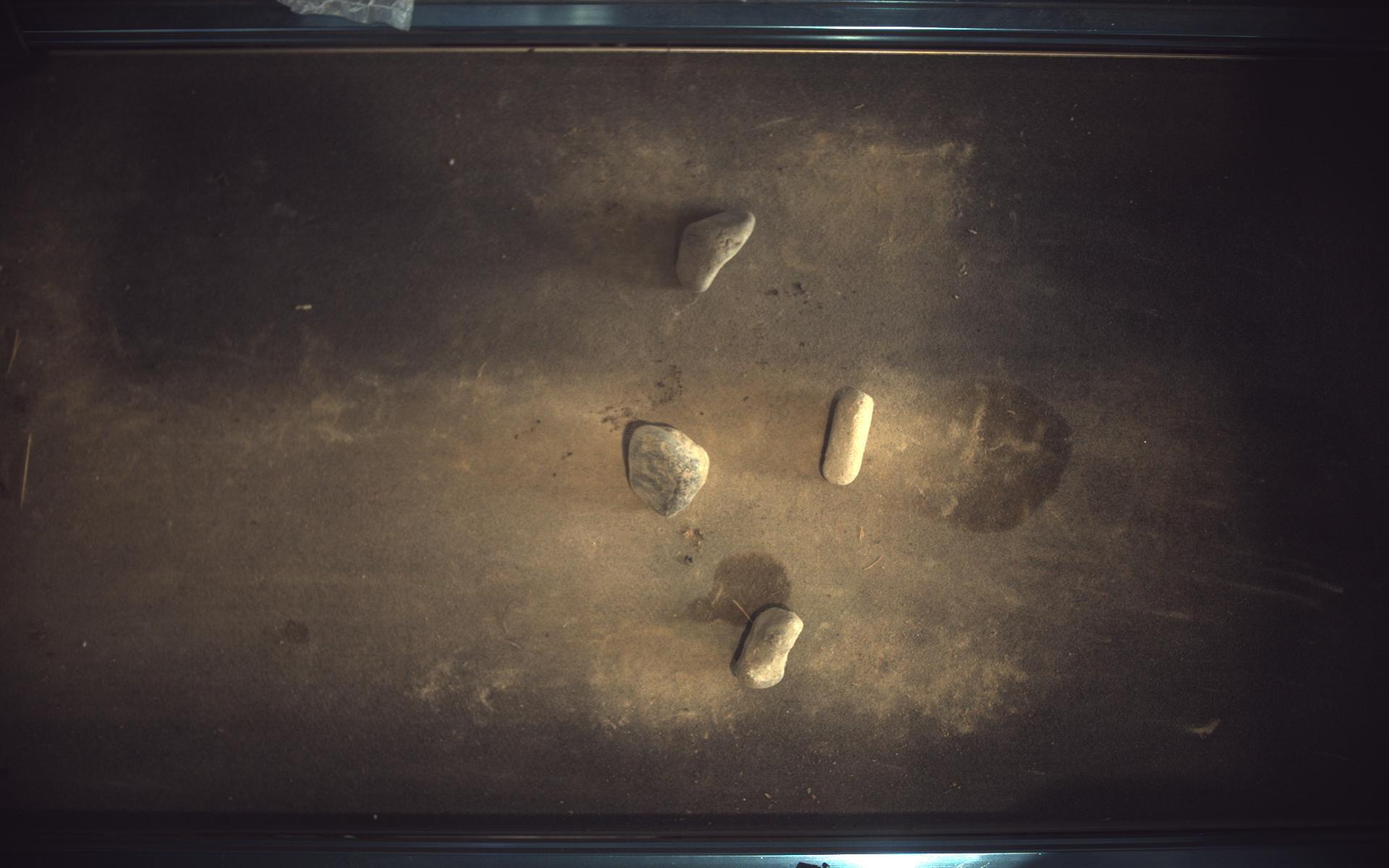stone: (628, 425, 710, 517), (677, 208, 757, 292), (734, 608, 805, 690), (823, 387, 876, 486)
